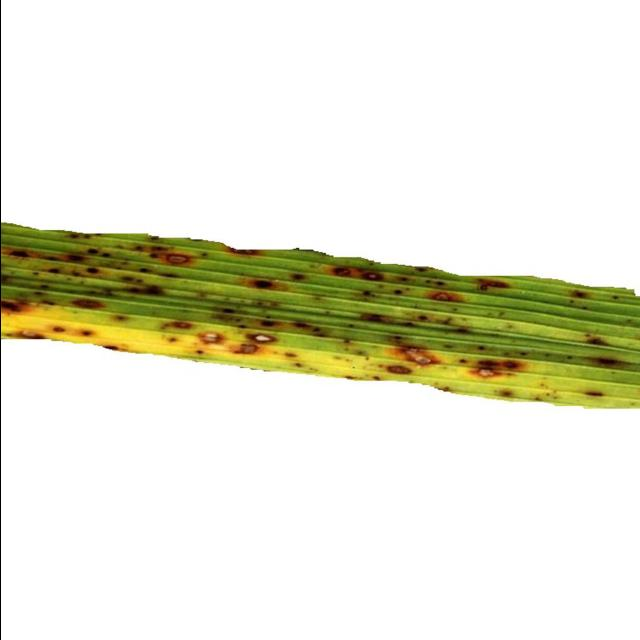Brown spot: (0, 214, 640, 415)
